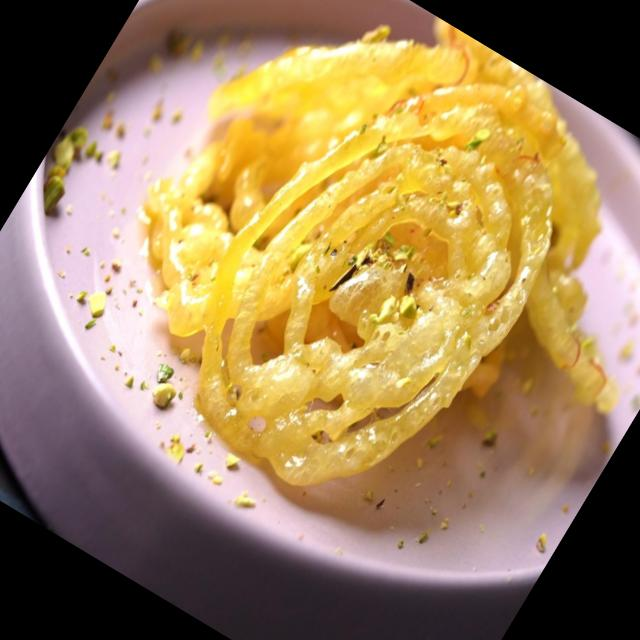jalebi: (82, 0, 640, 590)
